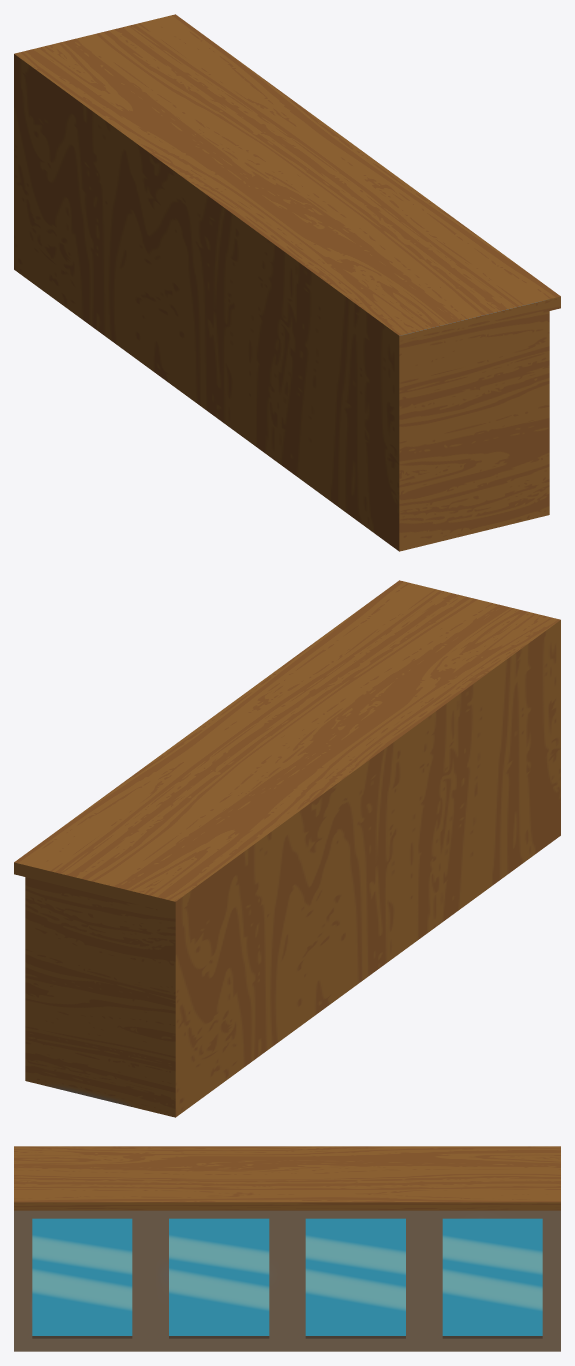
File: desk.fbx
3 views of the same model, one above another, from view 1: azimuth 30°, elevation 25°; view 2: azimuth 150°, elevation 25°; view 3: azimuth 270°, elevation 25° (orthographic). The views are drawn at different scales.
Visible parts, largest first — view 1: Cube; view 2: Cube; view 3: Cube.
Boxes of the visible parts, x1,y1,x2,y2 form: Cube: (14,14,560,551); Cube: (14,580,560,1117); Cube: (14,1146,560,1351).
Bounding box in the file's own units: 215 × 274 × 888.
